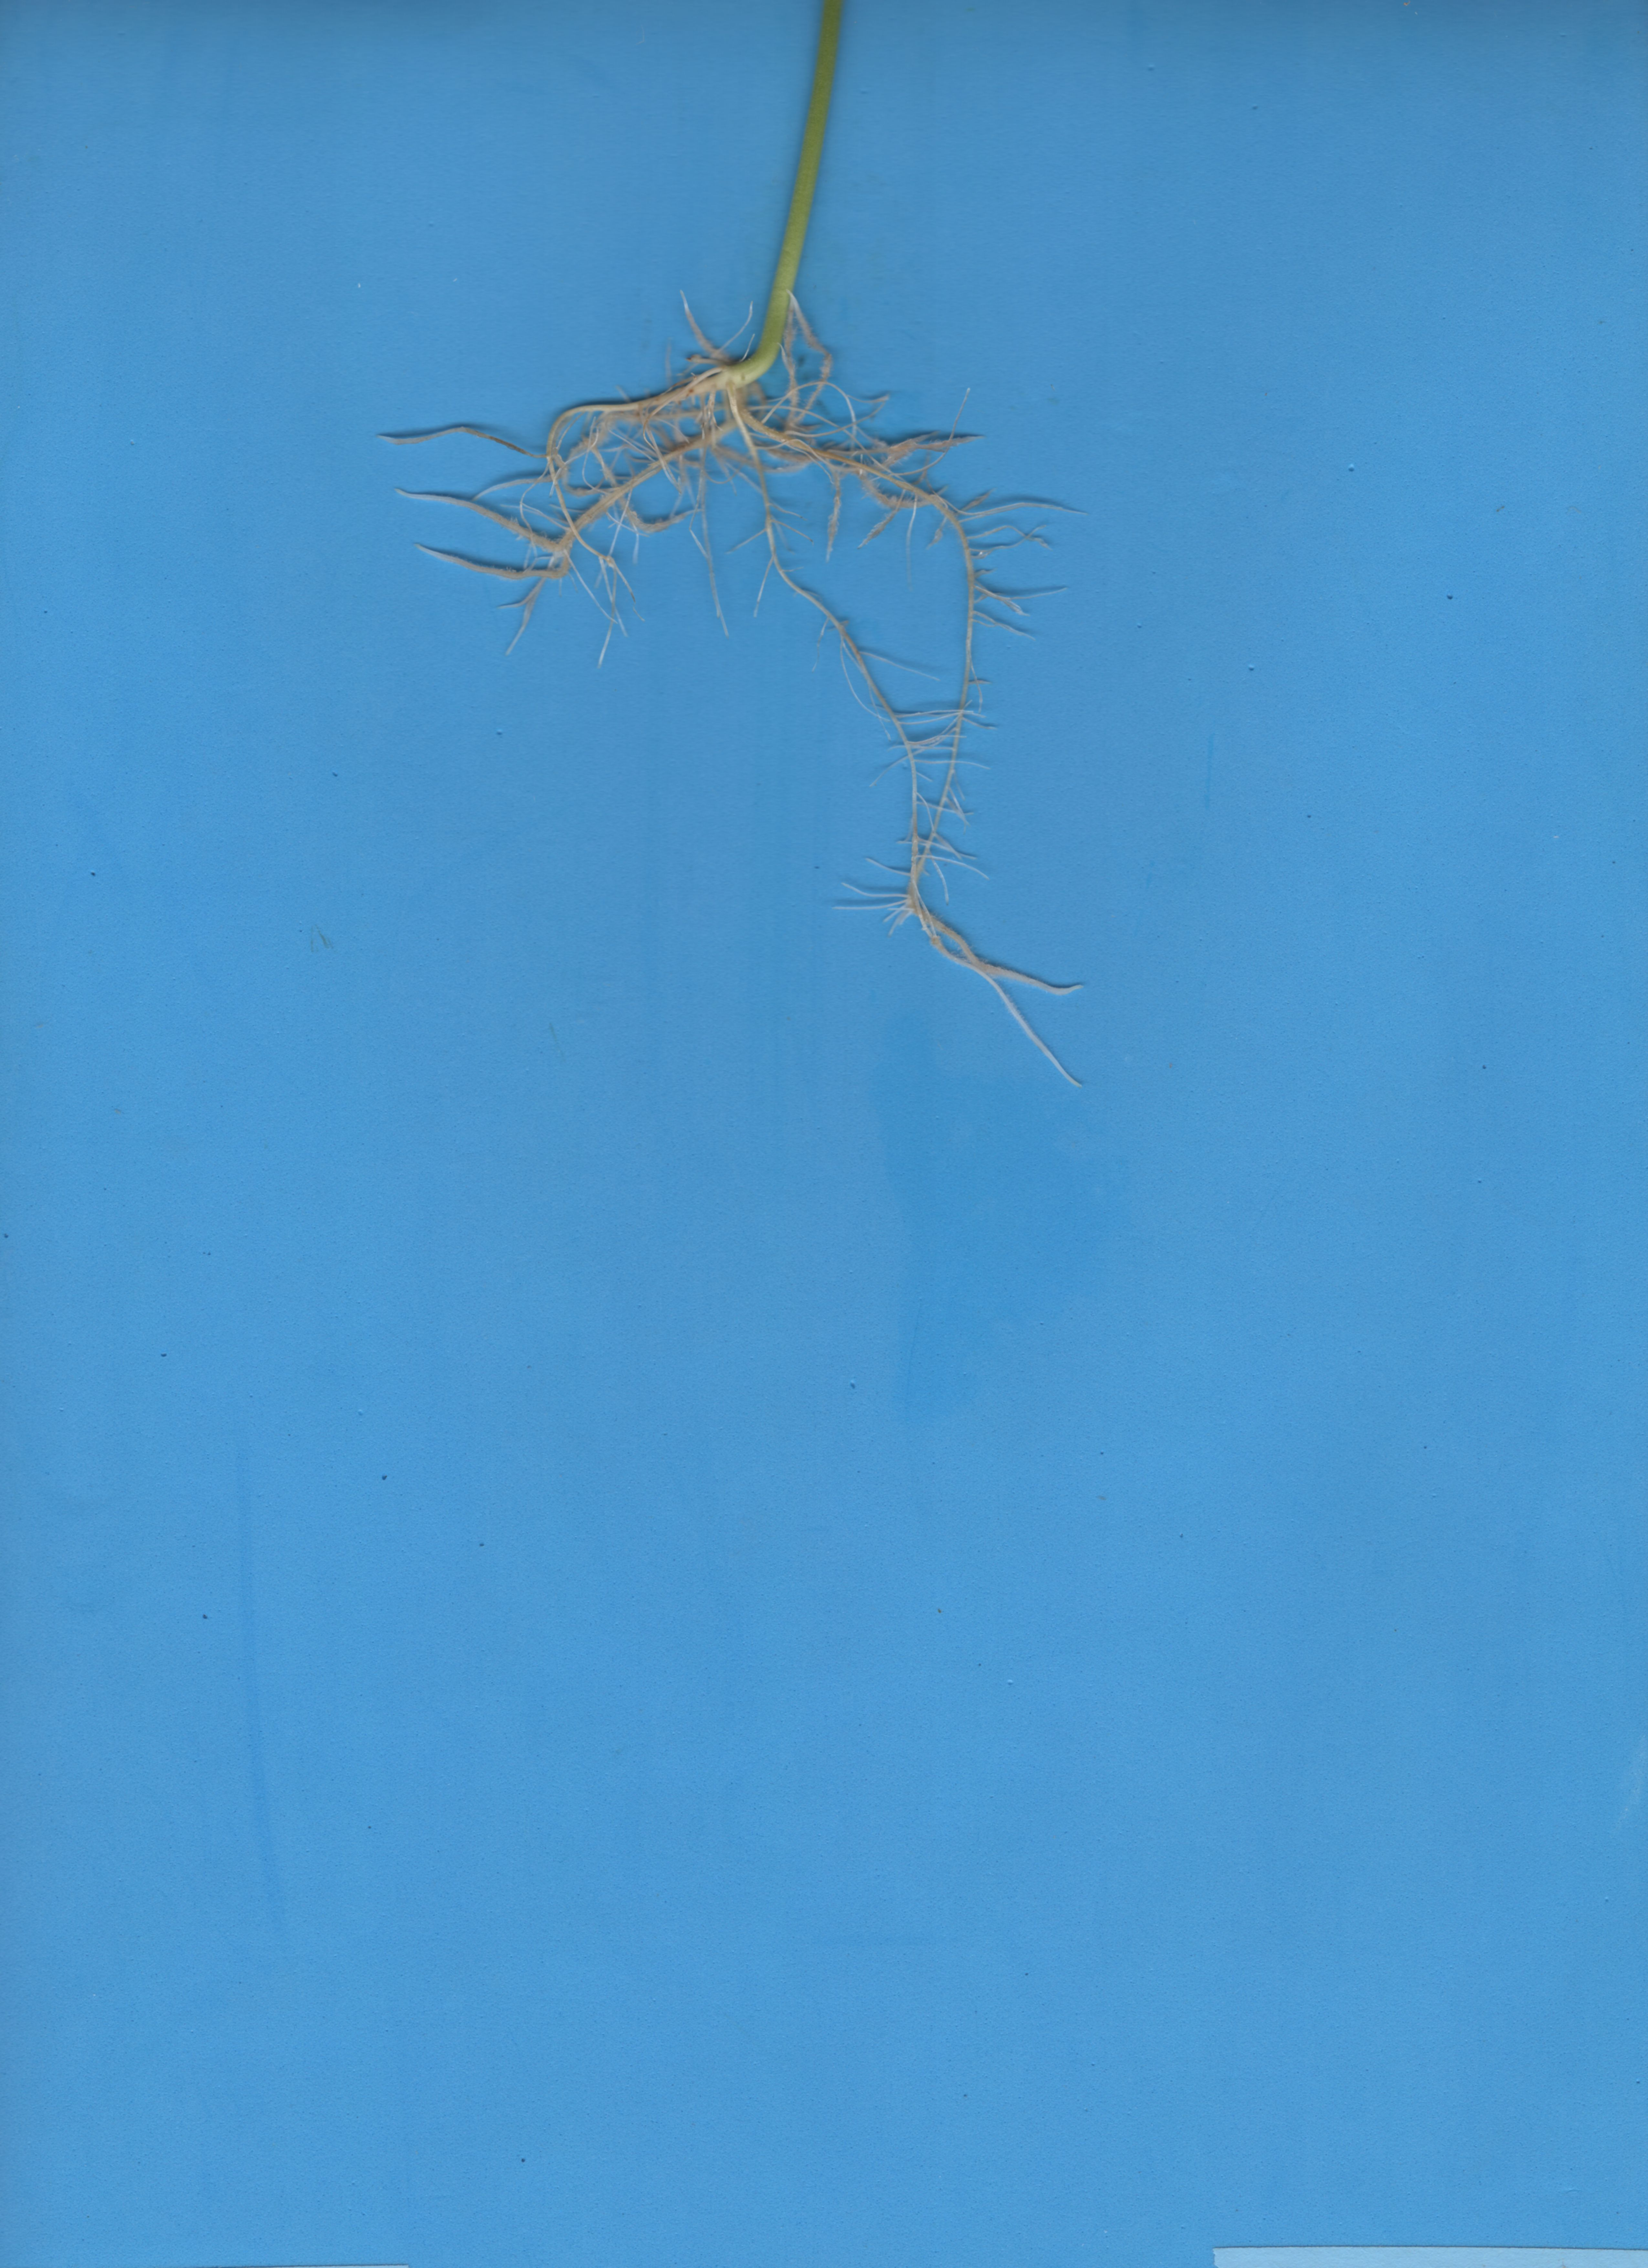CROWNGOOD: (727, 0, 896, 336)
ROOTGOOD: (329, 328, 1151, 1021)
